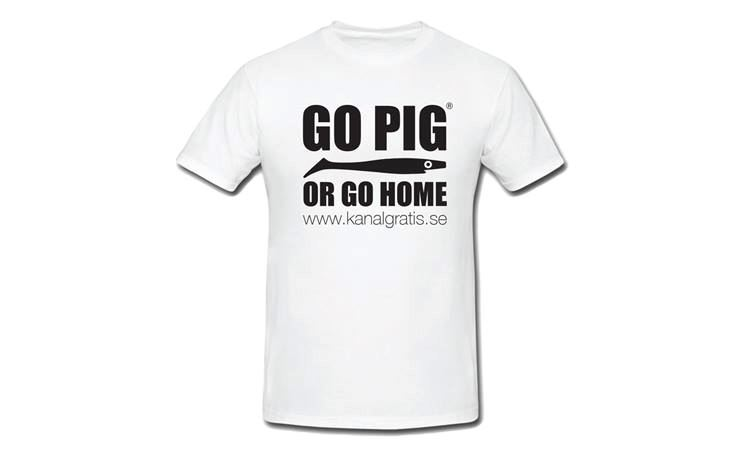T-Shirt: (173, 18, 570, 435)
